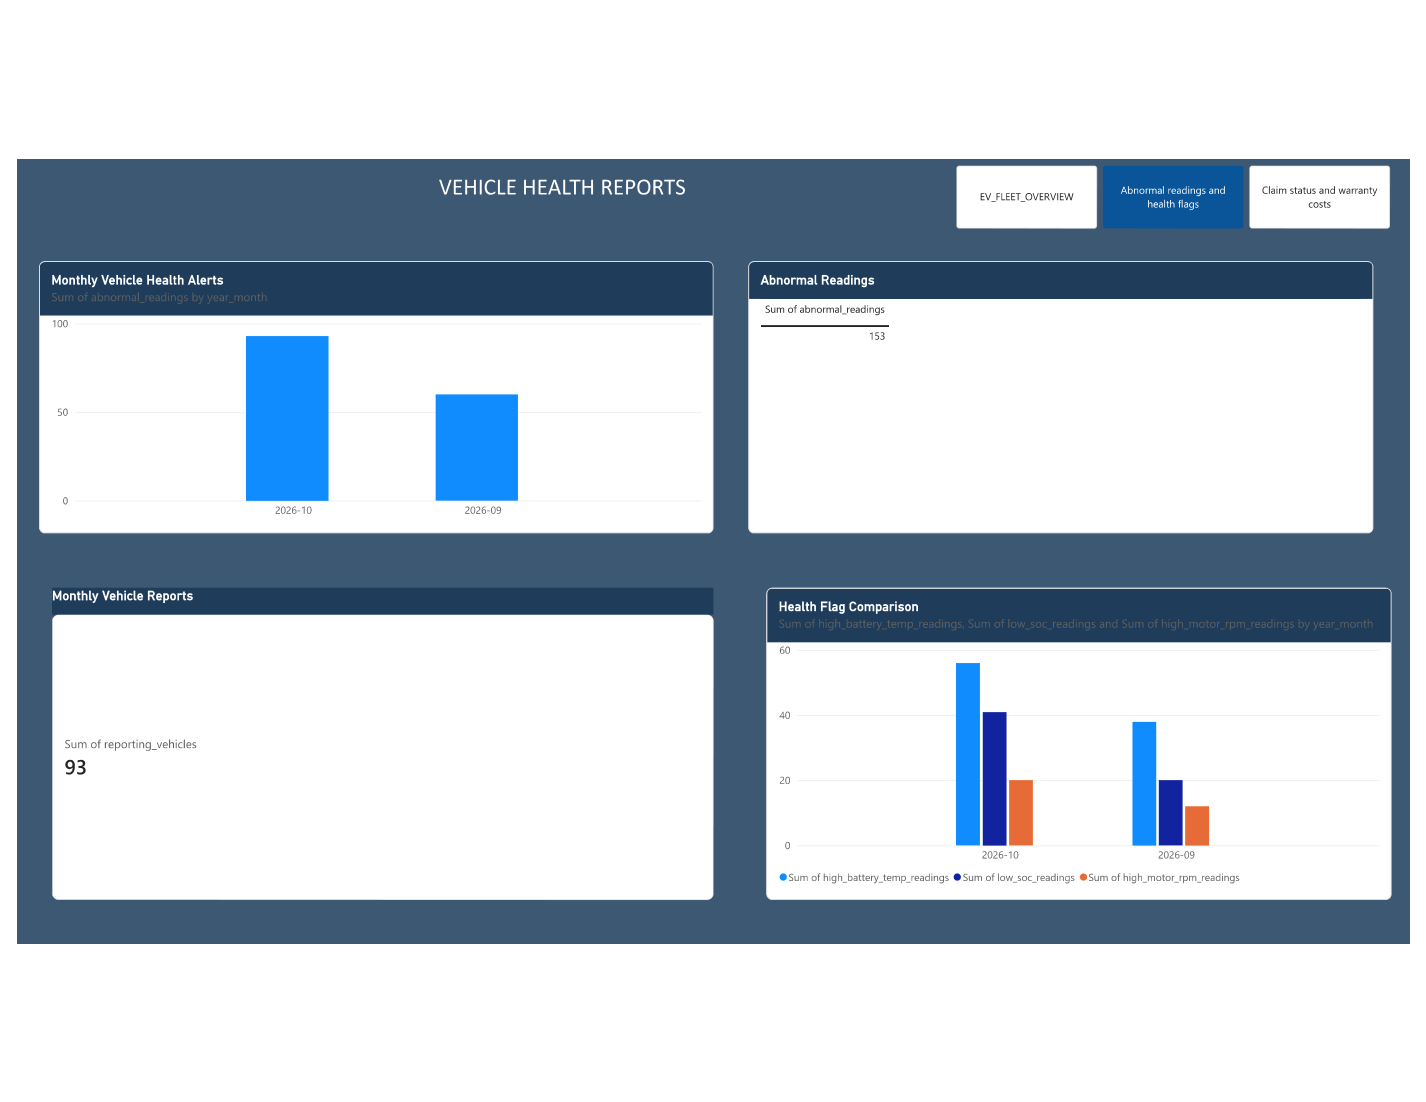

The dashboard page shown, as its layout file describes it:
{"tool":"powerbi","page":{"name":"Abnormal readings and health flags","canvas":[1920,1080],"ordinal":1},"visuals":[{"type":"clusteredColumnChart","title":"Monthly Vehicle Health Alerts","fields":{"Category":["monthly_vehicle_health_kpis.year_month"],"Y":["Sum(monthly_vehicle_health_kpis.abnormal_readings)"]},"box":[30,140,930,375],"z":0},{"type":"cardVisual","title":"Monthly Vehicle Reports","fields":{"Data":["Sum(monthly_engineering_kpis.reporting_vehicles)"]},"box":[47.5,590,912.5,430],"z":1000},{"type":"tableEx","title":"Abnormal Readings","fields":{"Values":["Sum(monthly_vehicle_health_kpis.abnormal_readings)"]},"box":[1007.5,140,862.5,375],"z":2000},{"type":"clusteredColumnChart","title":"Health Flag Comparison","fields":{"Category":["monthly_vehicle_health_kpis.year_month"],"Y":["Sum(monthly_vehicle_health_kpis.high_battery_temp_readings)","Sum(monthly_vehicle_health_kpis.low_soc_readings)","Sum(monthly_vehicle_health_kpis.high_motor_rpm_readings)"]},"box":[1032.5,590,862.5,430],"z":3000},{"type":"pageNavigator","box":[1295,7.5,600,87.5],"z":3001},{"type":"textbox","box":[30,17.5,1442.5,77.5],"z":3002}]}

Visuals, with their boxes on the page's 1920x1080 design canvas (x1, y1, x2, y2). These are canvas units, not pixel positions in the 1426x1102 screenshot, which may show the page scaled, cropped or inside an application window:
"Monthly Vehicle Health Alerts" clusteredColumnChart: {"x1": 30, "y1": 140, "x2": 960, "y2": 515}
"Monthly Vehicle Reports" cardVisual: {"x1": 48, "y1": 590, "x2": 960, "y2": 1020}
"Abnormal Readings" tableEx: {"x1": 1008, "y1": 140, "x2": 1870, "y2": 515}
"Health Flag Comparison" clusteredColumnChart: {"x1": 1032, "y1": 590, "x2": 1895, "y2": 1020}
pageNavigator: {"x1": 1295, "y1": 8, "x2": 1895, "y2": 95}
textbox: {"x1": 30, "y1": 18, "x2": 1472, "y2": 95}
